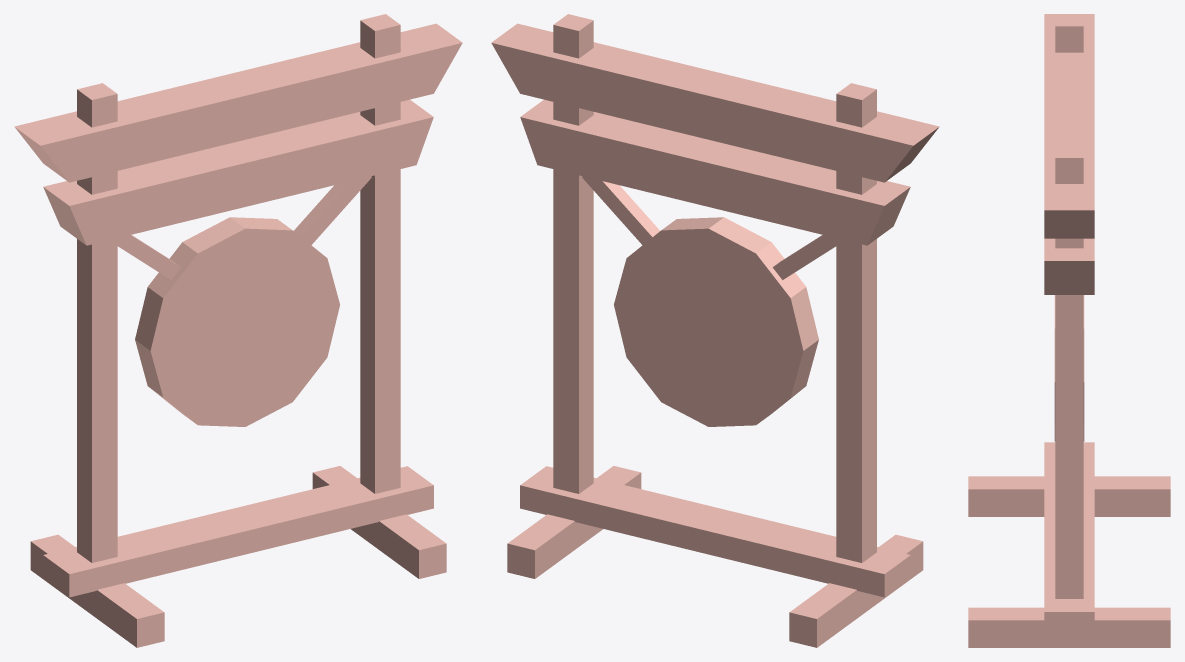
File: Mega_Asset_s_Pack_Cube_336.FBX
The picture shows the model from 3 angles, left to right: view 1: azimuth 30°, elevation 25°; view 2: azimuth 150°, elevation 25°; view 3: azimuth 270°, elevation 25°; orthographic projection. The views are drawn at different scales.
Visible parts, largest first — view 1: Mega_Asset_s_Pack_Cube_336; view 2: Mega_Asset_s_Pack_Cube_336; view 3: Mega_Asset_s_Pack_Cube_336.
Part boxes in pixels (x1,y1,x2,y2): Mega_Asset_s_Pack_Cube_336: [14, 14, 462, 647]; Mega_Asset_s_Pack_Cube_336: [491, 14, 939, 647]; Mega_Asset_s_Pack_Cube_336: [968, 14, 1170, 647].
Size of what is drawn, in the model's own units: 365 by 159 by 424.
